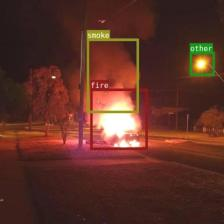fire: (90, 88, 147, 150)
smoke: (86, 39, 139, 113)
